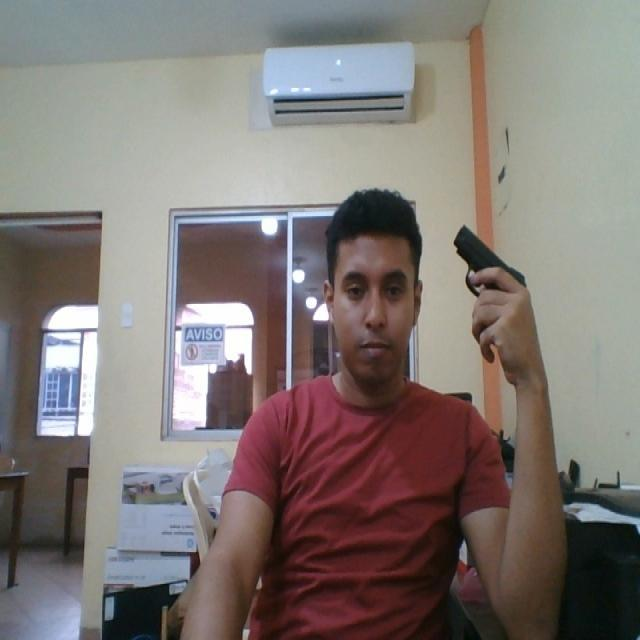weapon: (452, 222, 528, 364)
